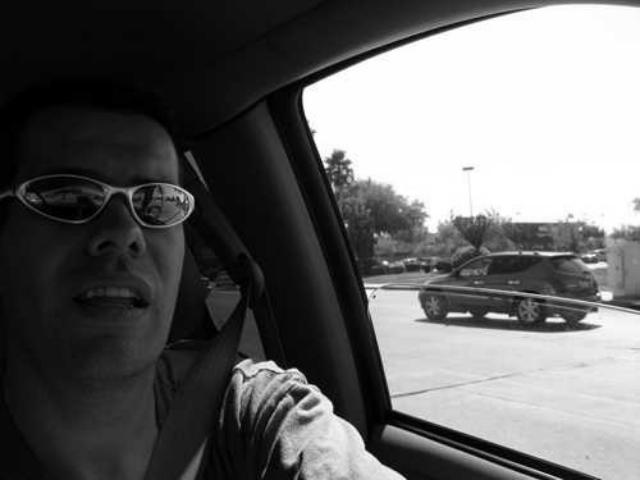Seatbelt: (140, 248, 266, 480)
